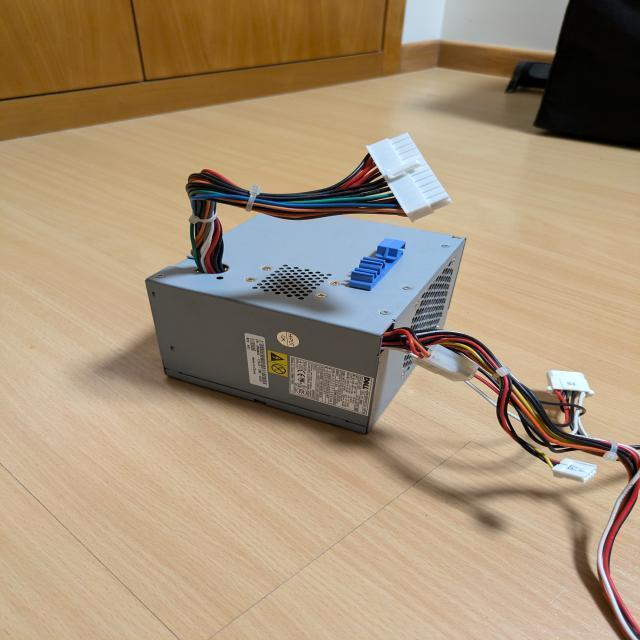PSU: (142, 200, 470, 438)
